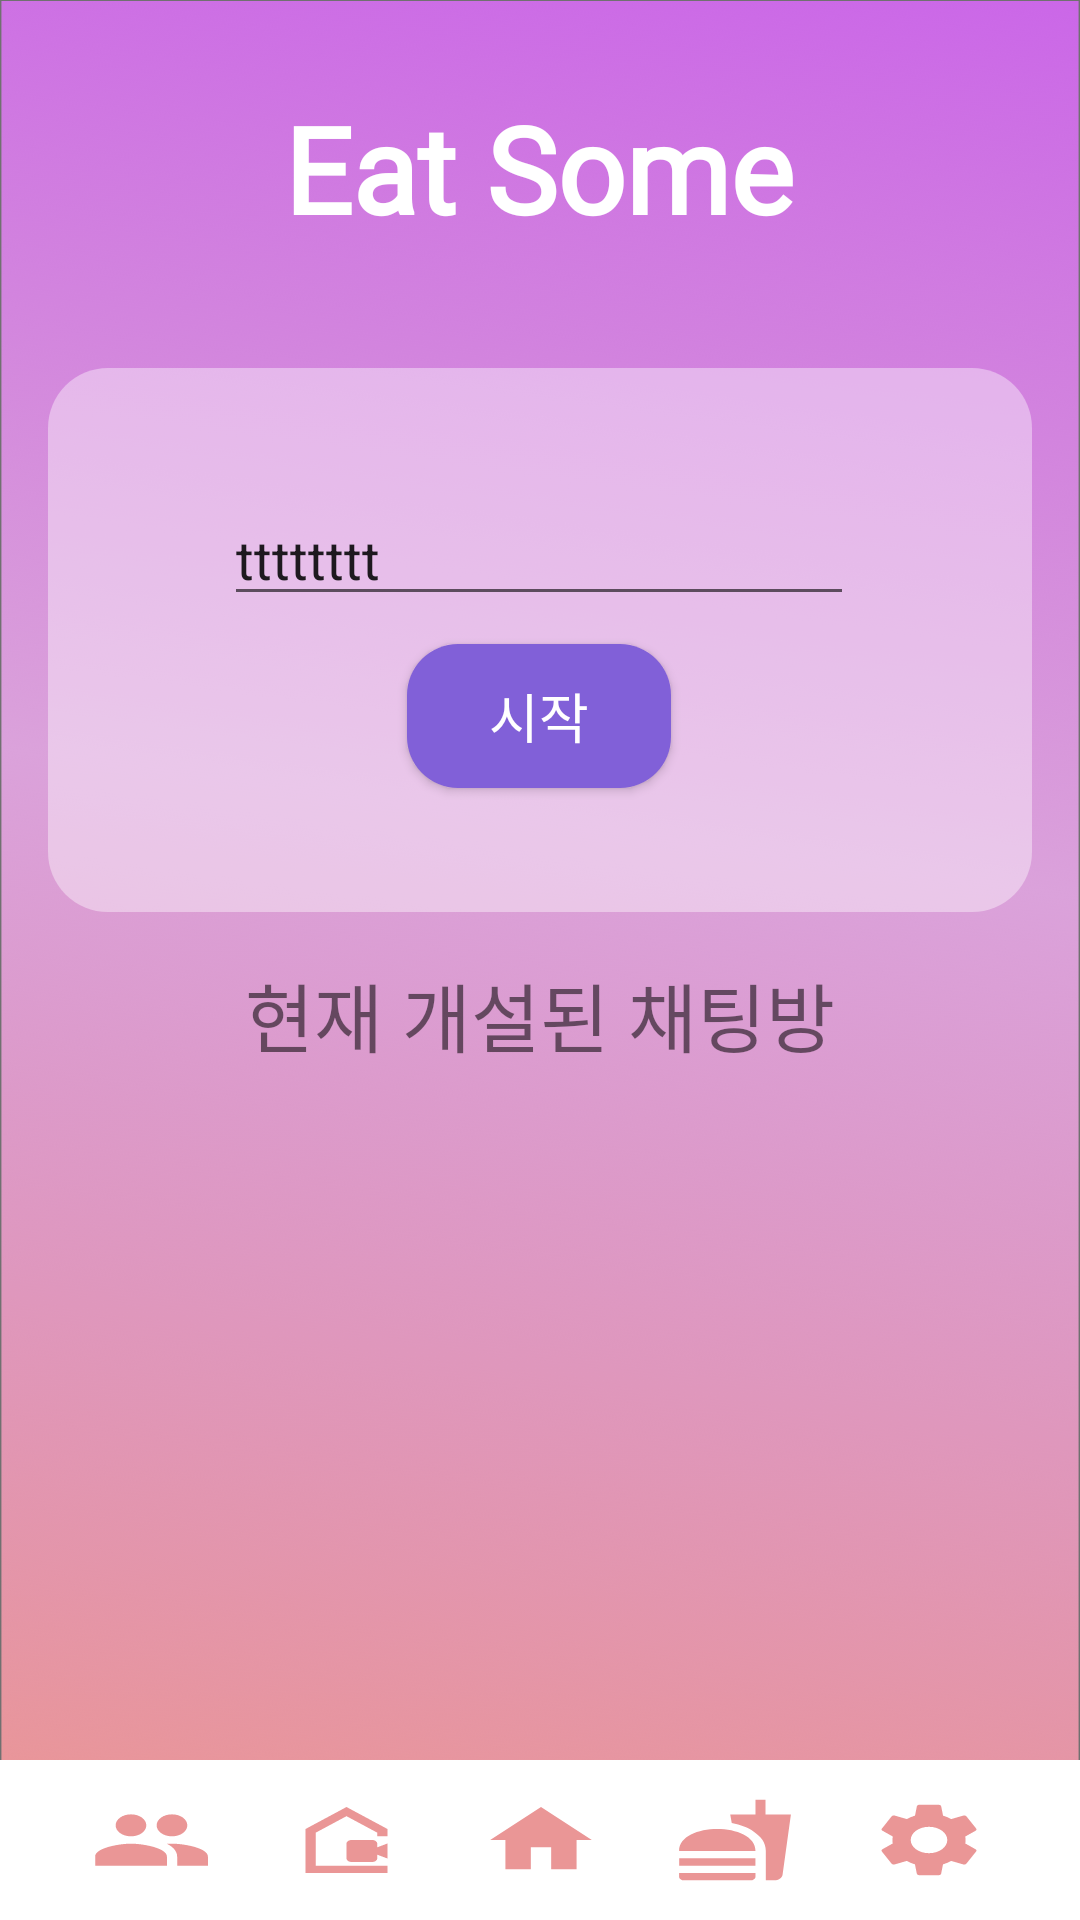

Where to tap for icons on this 1080px×1920px app screen, as (x,y):
food: (735,1840)
friends: (151,1840)
settings: (929,1840)
